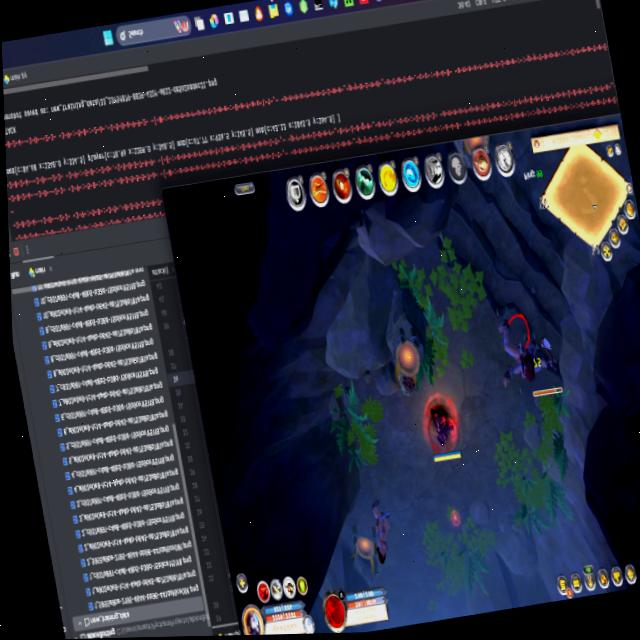ore: (484, 297, 569, 416), (362, 491, 404, 576), (446, 498, 465, 532)
red: (418, 391, 472, 470)
